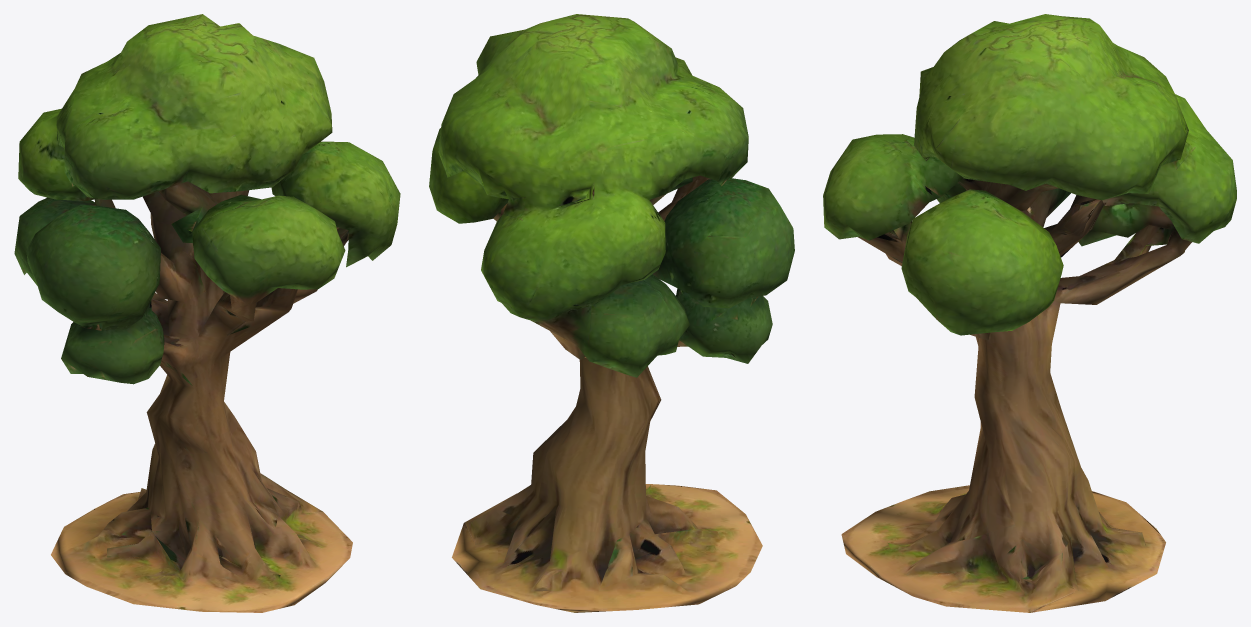
File: tree-old.glb
The picture shows the model from 3 angles, left to right: view 1: azimuth 30°, elevation 25°; view 2: azimuth 150°, elevation 25°; view 3: azimuth 270°, elevation 25°; orthographic projection. The views are drawn at different scales.
Parts seen in each view (by area): view 1: Mesh1.0; view 2: Mesh1.0; view 3: Mesh1.0.
Boxes of the visible parts, bbox=[...] form: Mesh1.0: bbox=[14, 14, 400, 612]; Mesh1.0: bbox=[429, 14, 794, 612]; Mesh1.0: bbox=[823, 14, 1236, 612].
Size of the model in its own units: 1.38 by 1.98 by 1.41.
Materials: 1 (1 with a texture image).
